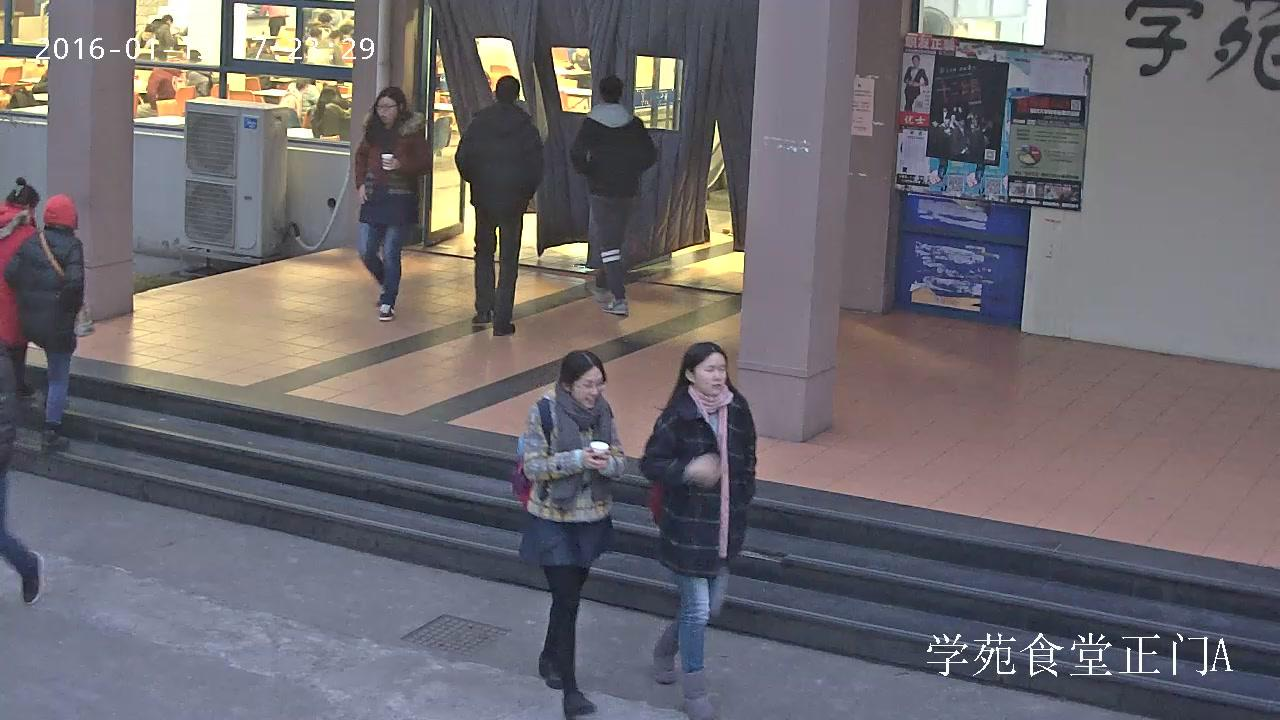person: (639, 341, 755, 719), (513, 350, 626, 717), (454, 76, 545, 335), (570, 74, 656, 315), (8, 194, 87, 451), (352, 88, 432, 322), (1, 176, 37, 396), (278, 76, 319, 123), (312, 88, 350, 138), (904, 54, 928, 112), (315, 30, 342, 63), (153, 13, 172, 59), (133, 25, 154, 50)
